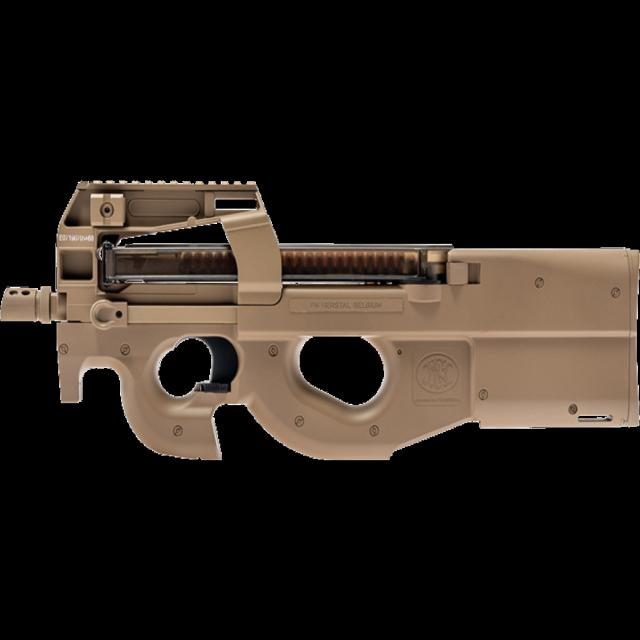SMG: (0, 181, 640, 462)
